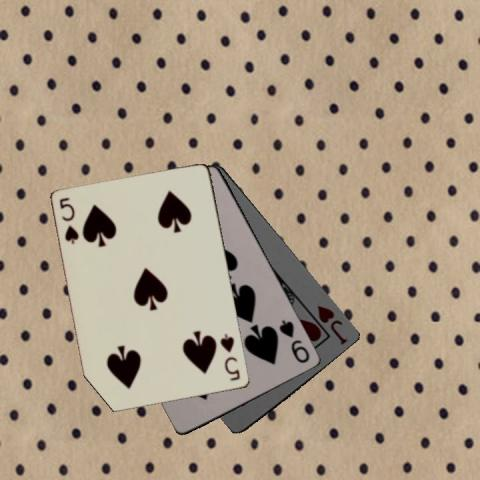5s: (217, 330, 242, 382), (56, 195, 80, 246)
9s: (277, 316, 312, 364)
Jh: (315, 300, 350, 347)
